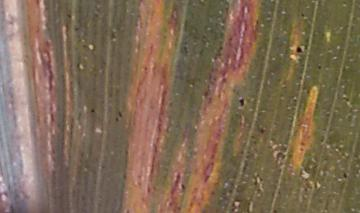tarspot: (212, 44, 223, 62), (182, 39, 189, 56), (237, 96, 246, 109), (109, 28, 117, 42), (174, 172, 182, 186), (294, 44, 304, 55), (315, 63, 324, 74), (145, 183, 152, 196), (258, 126, 267, 136), (341, 171, 350, 180), (179, 182, 187, 192), (116, 109, 124, 118), (191, 125, 199, 134), (49, 112, 56, 122), (65, 11, 72, 20), (202, 90, 209, 99), (121, 172, 128, 181), (74, 61, 81, 70), (89, 107, 96, 115), (142, 64, 149, 72), (114, 117, 122, 123), (299, 12, 307, 18), (255, 18, 260, 27), (73, 24, 79, 31), (299, 146, 306, 152), (124, 207, 131, 213), (270, 208, 278, 213), (300, 140, 305, 147), (99, 164, 106, 169), (298, 75, 303, 81)
